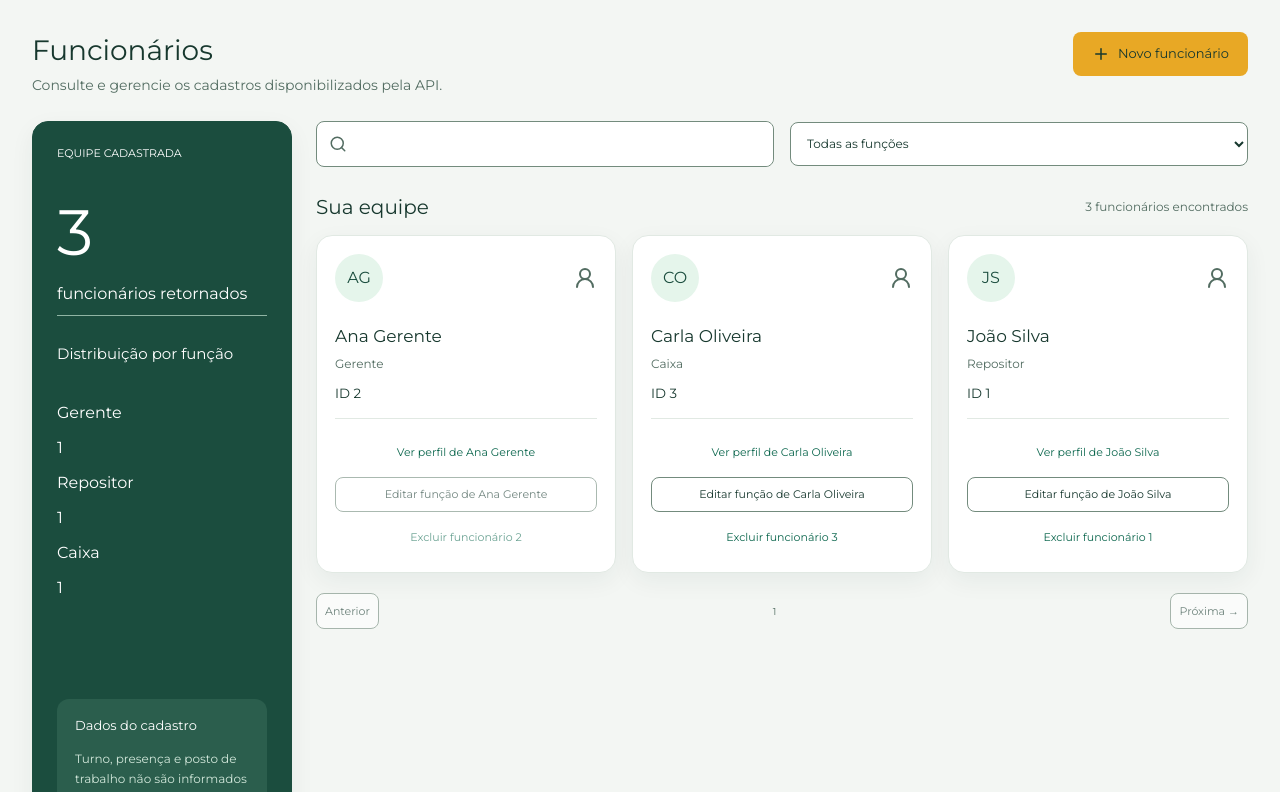
Test: filters actual names and positions without inventing activity or email
This screenshot has width=1280, height=792.
Expected: the heading "João Silva" is shown, [967,326,1050,346]
Step 1. Type "joao" into the search field → [565, 144], box [357,122,773,166]
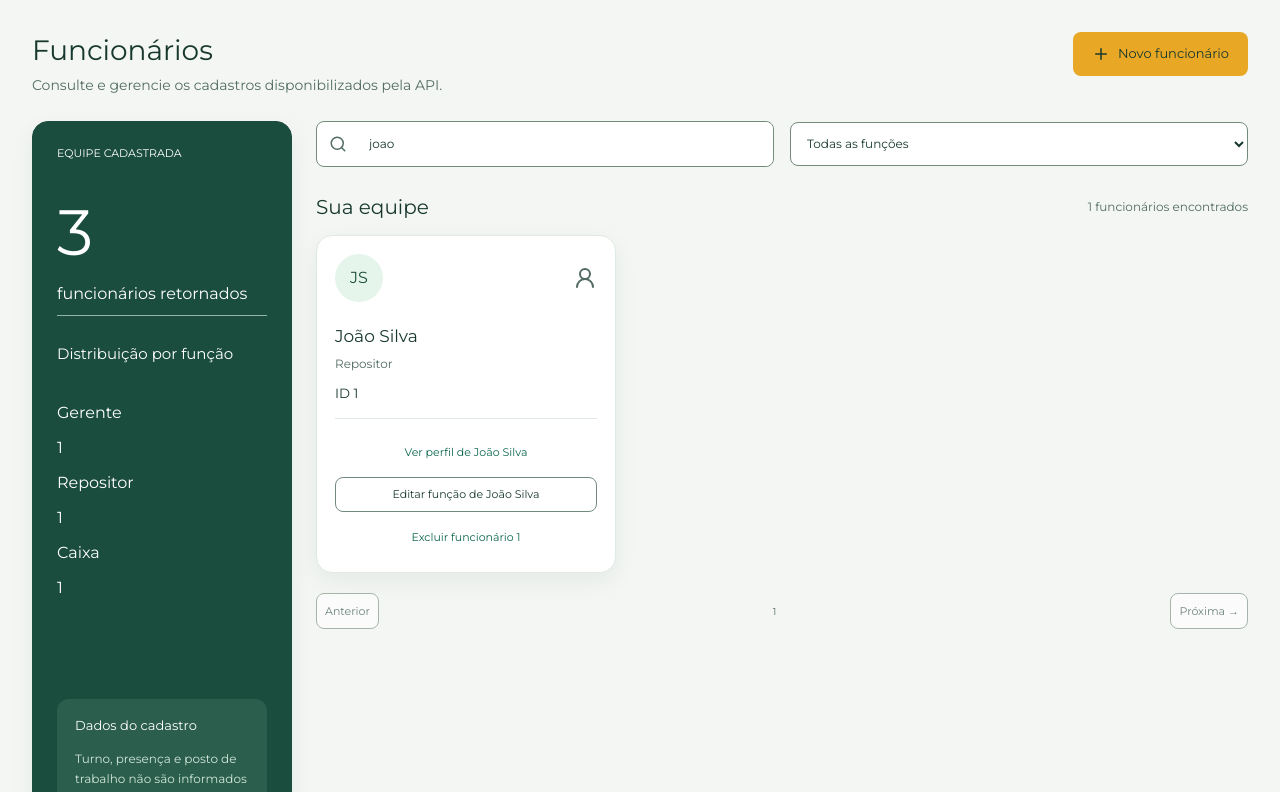
Expected: the heading "João Silva" is shown, [335,326,418,346]
Expected: the heading "Carla Oliveira" is gone
